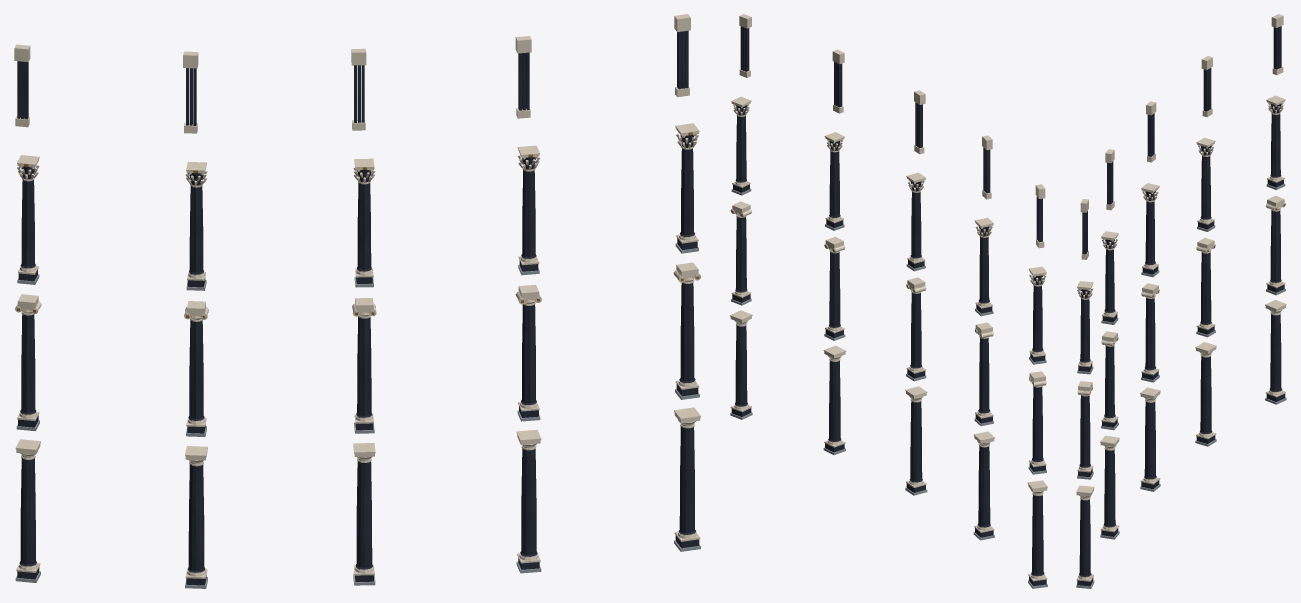
File: COL_ColumnOrders_O3.glb
3 renders of one model, left to right at view 1: azimuth 30°, elevation 25°; view 2: azimuth 150°, elevation 25°; view 3: azimuth 270°, elevation 25°, orthographic. The views are drawn at different scales.
Parts seen in each view (by area): view 1: COL_ColumnOrders_O3; view 2: COL_ColumnOrders_O3; view 3: COL_ColumnOrders_O3.
Boxes of the visible parts, box(x1,y1,x2,y2) form: COL_ColumnOrders_O3: box(14, 14, 701, 588); COL_ColumnOrders_O3: box(730, 14, 1047, 588); COL_ColumnOrders_O3: box(1076, 14, 1286, 588).
Size of the model in its own units: 63.24 by 58.2 by 29.07.
Materials: 4 (4 with a texture image).
